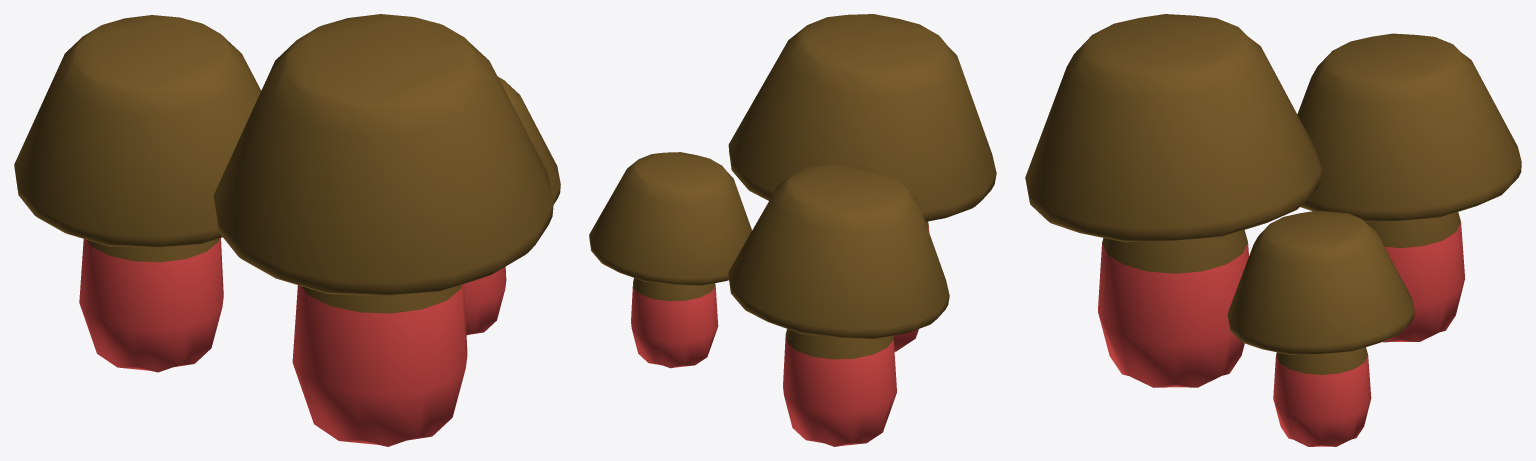
File: BoroviksMushrooms.fbx
3 views of the same model, side by side, from view 1: azimuth 30°, elevation 25°; view 2: azimuth 150°, elevation 25°; view 3: azimuth 270°, elevation 25° (orthographic). The views are drawn at different scales.
Visible parts, largest first — view 1: Cone.005; view 2: Cone.005; view 3: Cone.005.
Part boxes in pixels (box(x1,y1,x2,y2)): Cone.005: box(14, 14, 560, 446); Cone.005: box(589, 14, 996, 446); Cone.005: box(1025, 14, 1521, 446).
Size of the model in its own units: 30.85 by 25.16 by 32.47.
